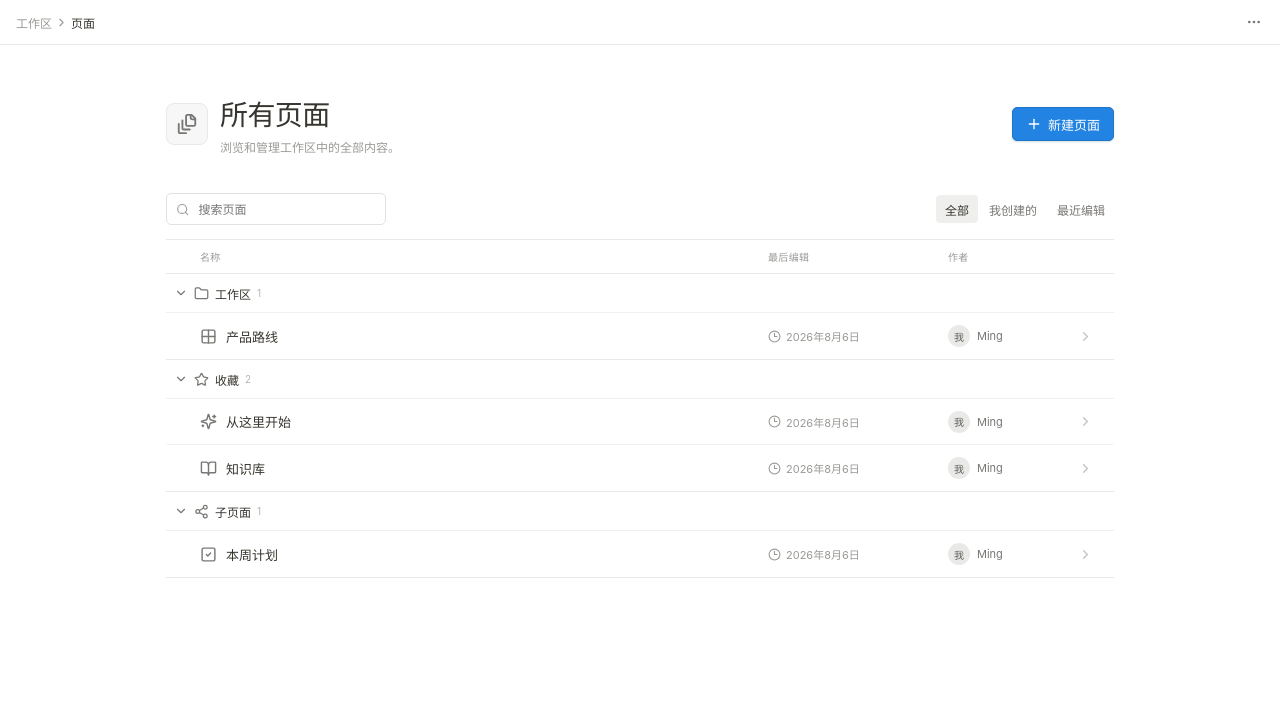
WorkspacePageList › connects each collapsible group heading to its rows
Click the button "工作区 1" at (233, 294), box x1=166 y1=274 x2=1114 y2=312
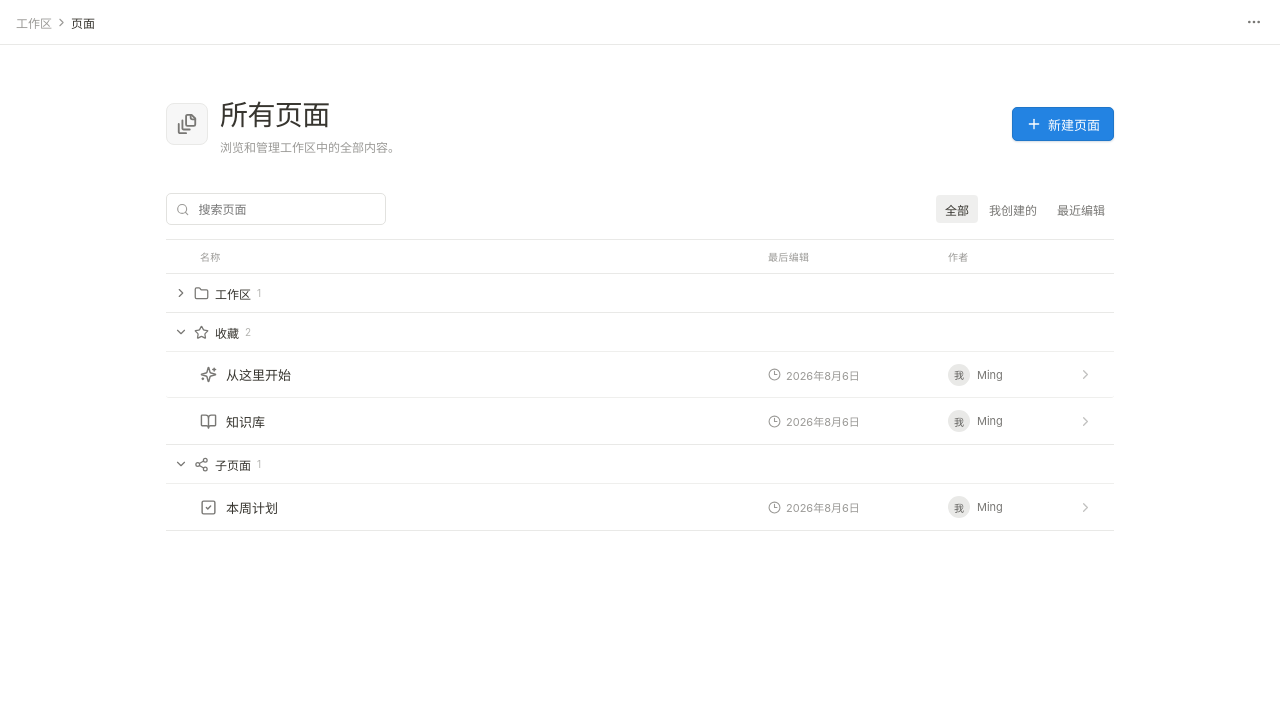
Check: the button "工作区 1" is collapsed, box x1=166 y1=274 x2=1114 y2=312
